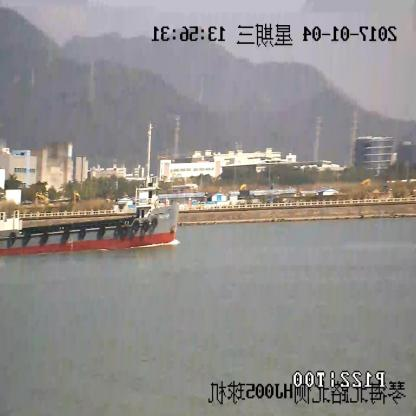Bulk Carrier: (0, 198, 178, 258)
